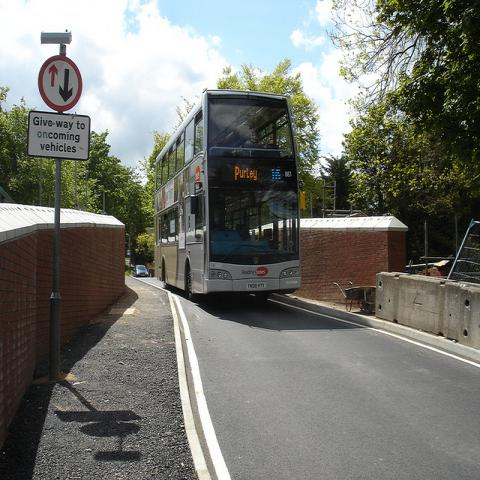bus: (152, 89, 306, 306)
car: (133, 265, 148, 277)
